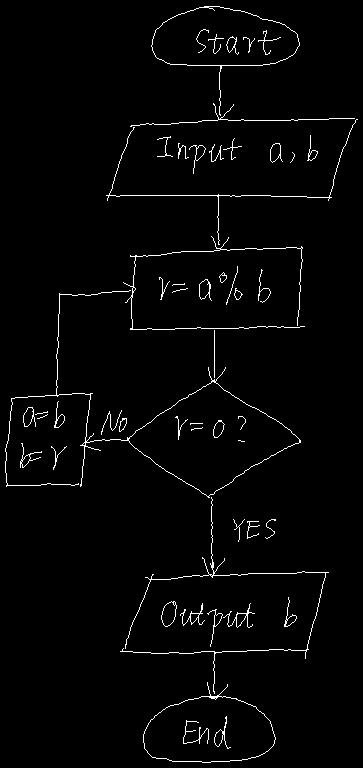arrow: (56, 282, 135, 396), (202, 497, 224, 577), (213, 65, 233, 119), (207, 651, 227, 698), (211, 194, 228, 248), (208, 330, 225, 381), (80, 433, 128, 450)
data: (106, 118, 357, 200), (120, 571, 328, 658)
decision: (127, 379, 300, 497)
process: (130, 246, 304, 329), (5, 393, 92, 486)
terminator: (151, 6, 299, 65), (143, 696, 275, 762)
text: (161, 597, 296, 646), (157, 135, 317, 173), (159, 266, 270, 304), (20, 401, 66, 469), (196, 29, 280, 54), (175, 416, 245, 441), (183, 716, 230, 748), (233, 519, 275, 541), (101, 410, 126, 434)
